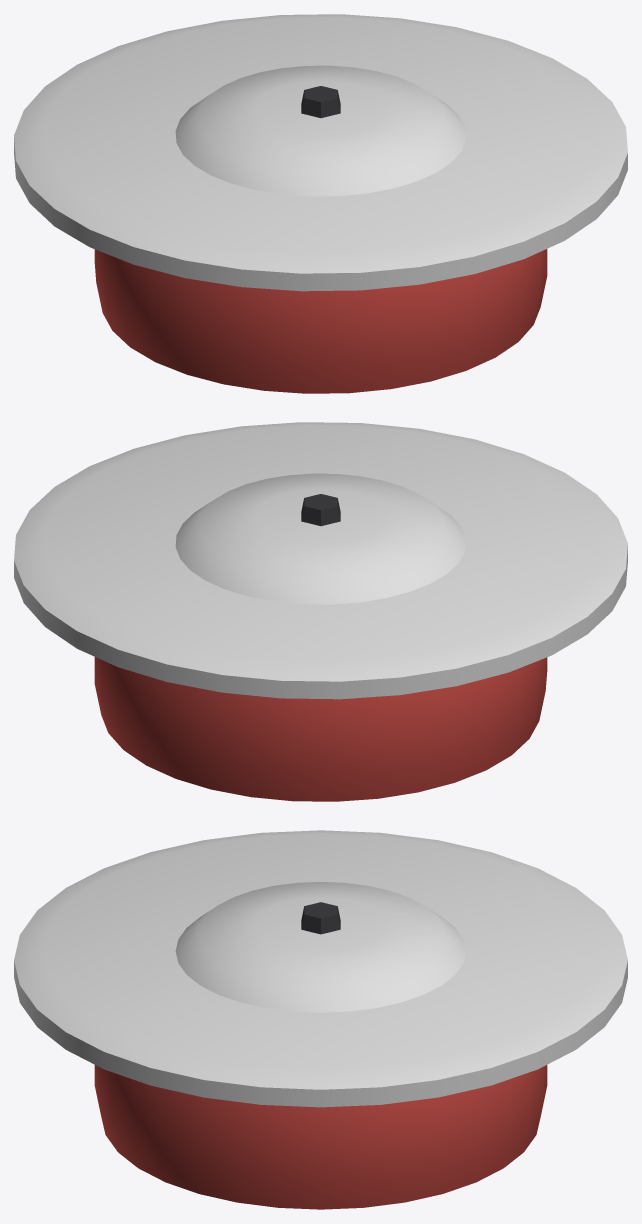
Rendered from cleaner.glb.
The picture shows the model from 3 angles, top to bottom: view 1: azimuth 30°, elevation 25°; view 2: azimuth 150°, elevation 25°; view 3: azimuth 270°, elevation 25°; orthographic projection.
Parts seen in each view (by area): view 1: lod0; view 2: lod0; view 3: lod0.
Boxes of the visible parts, x1,y1,x2,y2 form: lod0: (14, 14, 627, 393); lod0: (14, 422, 627, 801); lod0: (14, 830, 627, 1209).
Size of what is drawn, in the model's own units: 0.19 by 0.0705 by 0.19.
